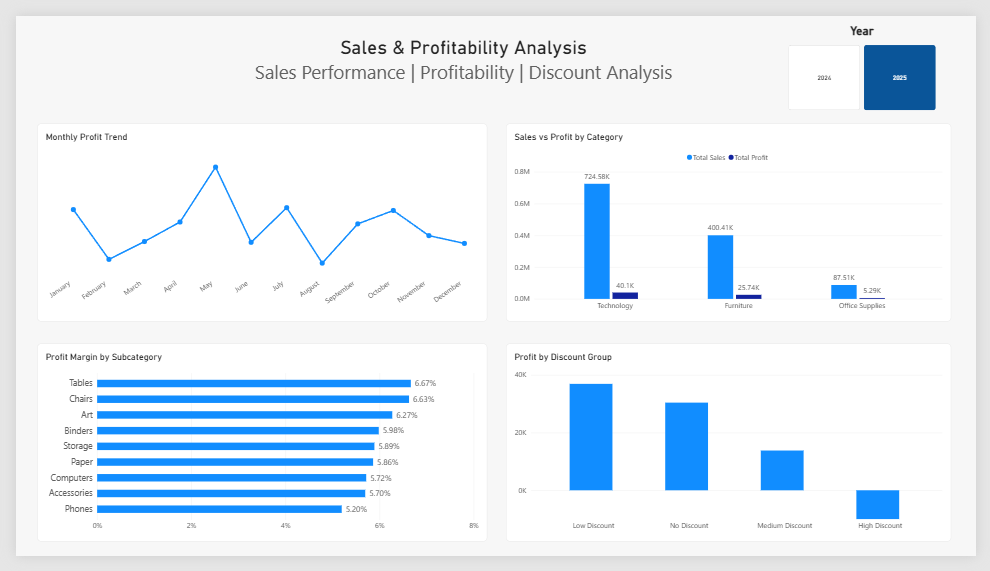

What the dashboard file says about the page in this screenshot:
{"tool":"powerbi","page":{"name":"Sales & Profitability Analysis","canvas":[1920,1080],"ordinal":4},"visuals":[{"type":"lineChart","title":"Monthly Profit Trend","fields":{"Category":["SalesData.Order_Date.Variation.Date Hierarchy.Month"],"Y":["SalesData.Total Profit"]},"box":[42,214,900,396],"z":0},{"type":"clusteredColumnChart","title":"Sales vs Profit by Category","fields":{"Category":["SalesData.Category"],"Y":["SalesData.Total Sales","SalesData.Total Profit"]},"box":[980,214,890,396],"z":1000},{"type":"clusteredBarChart","title":"Profit Margin by Subcategory","fields":{"Category":["SalesData.Sub_Category"],"Y":["SalesData.Profit Margin"]},"box":[42,656,900,396],"z":2000},{"type":"clusteredColumnChart","title":"Profit by Discount Group","fields":{"Category":["SalesData.Discount_Group"],"Y":["SalesData.Total Profit"]},"box":[980,656,890,396],"z":3000},{"type":"textbox","title":"Sales & Profitability Analysis","box":[216,40,1360,122],"z":4000},{"type":"advancedSlicerVisual","fields":{"Values":["SalesData.Order_Date.Variation.Date Hierarchy.Year"]},"box":[1546,14,294,174],"z":5000}]}

Visuals, with their boxes in screenshot pixels (x1, y1, x2, y2), scaled from the page's 1920x1080 canvas onto the 990x571 screenshot:
"Monthly Profit Trend" lineChart: 22,113,486,323
"Sales vs Profit by Category" clusteredColumnChart: 505,113,964,323
"Profit Margin by Subcategory" clusteredBarChart: 22,347,486,556
"Profit by Discount Group" clusteredColumnChart: 505,347,964,556
"Sales & Profitability Analysis" textbox: 111,21,813,86
advancedSlicerVisual - SalesData.Order_Date.Variation.Date Hierarchy.Year: 797,7,949,99
